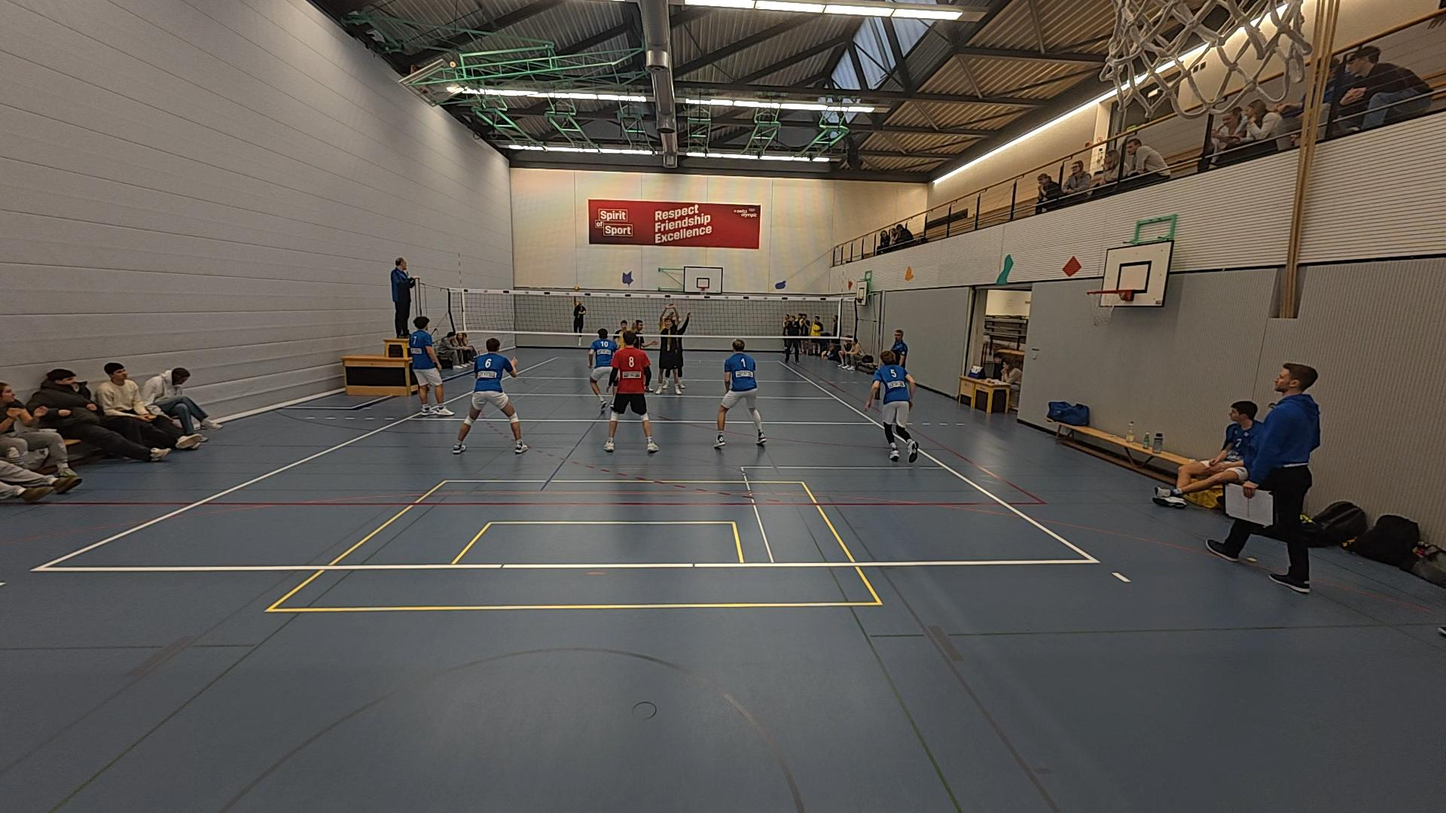battuta: (570, 288, 590, 349)
